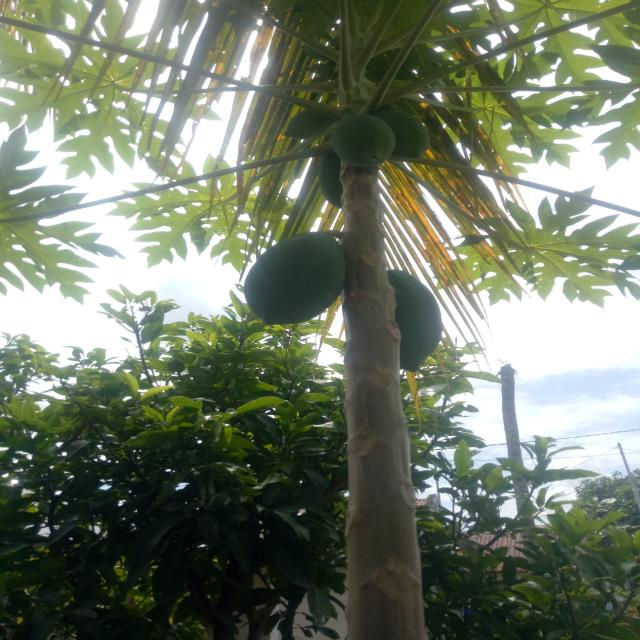Pepaya unrippen: (237, 230, 344, 332), (382, 280, 449, 380), (330, 117, 396, 176)
